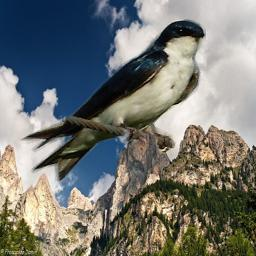Swallow: (19, 19, 206, 182)
